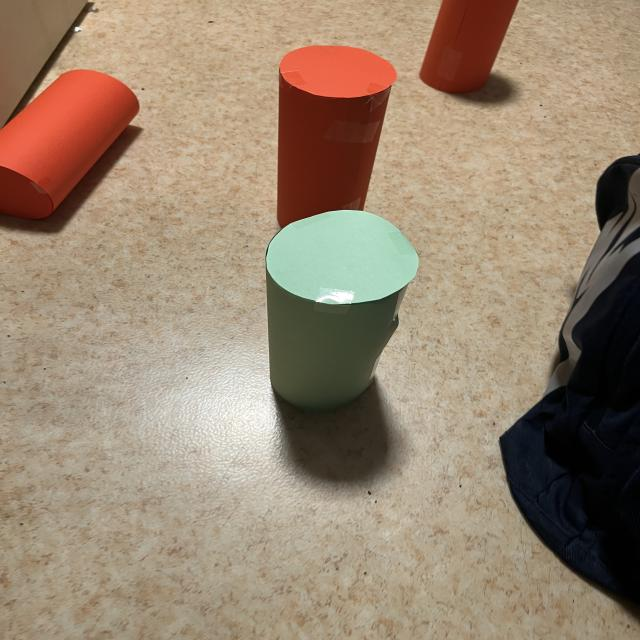meta: (266, 210, 418, 409)
przeszkoda: (277, 46, 396, 227), (0, 70, 139, 218), (420, 0, 517, 93)
